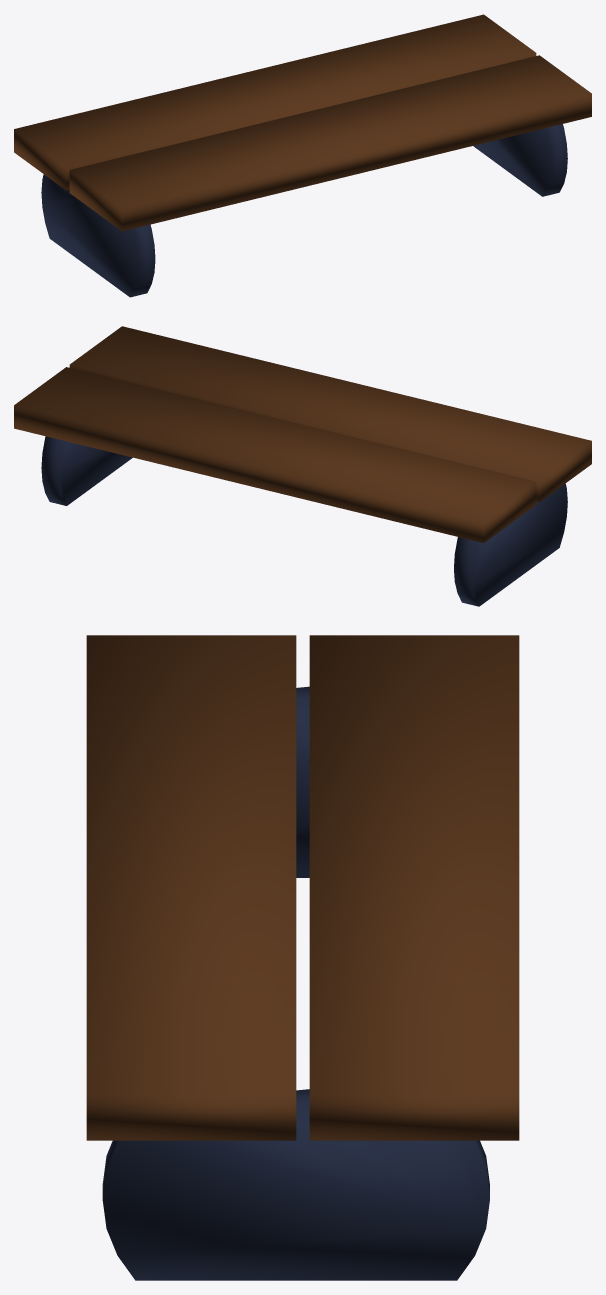
The model's file is banco sem encosto.fbx.
The picture shows the model from 3 angles, top to bottom: view 1: azimuth 30°, elevation 25°; view 2: azimuth 150°, elevation 25°; view 3: azimuth 270°, elevation 25°; orthographic projection. The views are drawn at different scales.
Visible parts, largest first — view 1: Banco sem encosto; view 2: Banco sem encosto; view 3: Banco sem encosto.
Part boxes in pixels (x1,y1,x2,y2): Banco sem encosto: [14, 14, 591, 297]; Banco sem encosto: [14, 326, 591, 606]; Banco sem encosto: [86, 635, 519, 1280].
Bounding box in the file's own units: 666 × 140 × 265.
